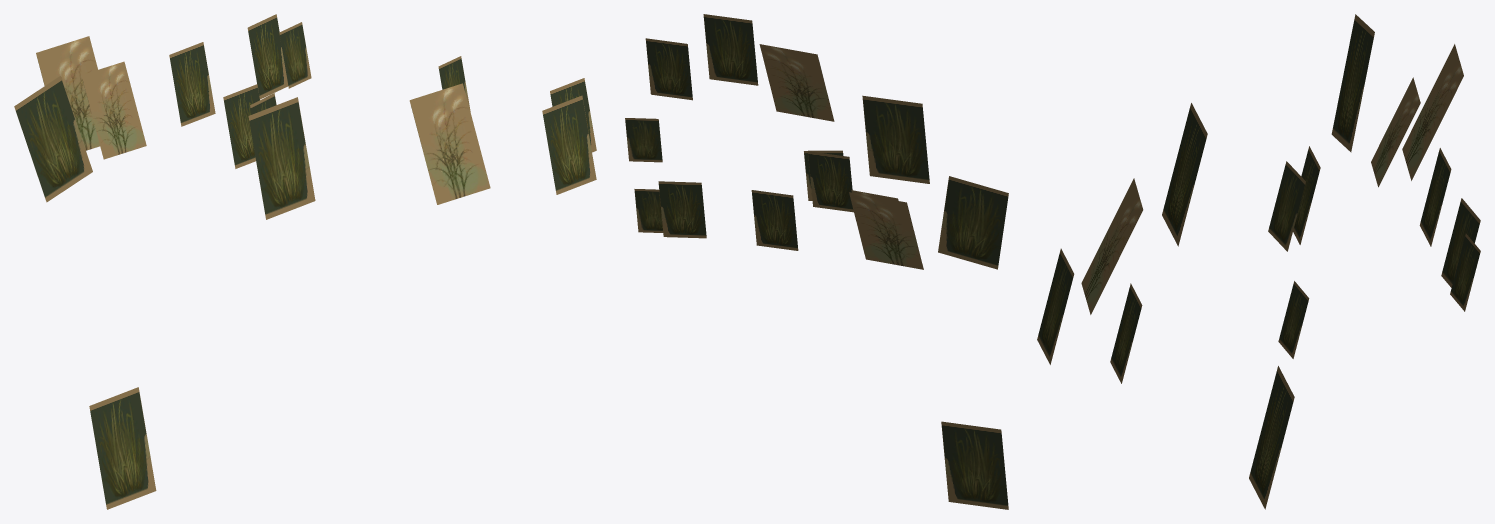
File: object_grass_polys13.fbx
The picture shows the model from 3 angles, left to right: view 1: azimuth 30°, elevation 25°; view 2: azimuth 150°, elevation 25°; view 3: azimuth 270°, elevation 25°; orthographic projection. The views are drawn at different scales.
Visible parts, largest first — view 1: Material_#238683980/town_grass_mat; view 2: Material_#238683980/town_grass_mat; view 3: Material_#238683980/town_grass_mat.
Boxes of the visible parts, x1=… form: Material_#238683980/town_grass_mat: x1=14, y1=14, x2=596, y2=509; Material_#238683980/town_grass_mat: x1=625, y1=14, x2=1008, y2=509; Material_#238683980/town_grass_mat: x1=1037, y1=14, x2=1480, y2=509.
Bounding box in the file's own units: 14.75 × 11.49 × 10.25.
